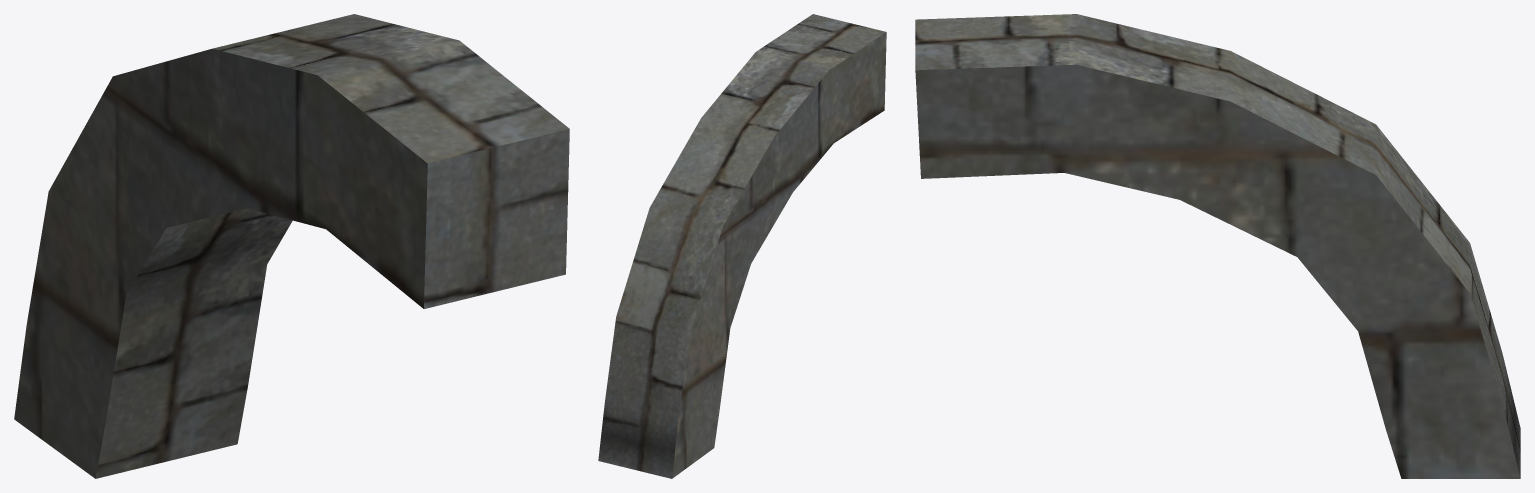
Rendered from Roof Pillar.fbx.
3 views of the same model, side by side, from view 1: azimuth 30°, elevation 25°; view 2: azimuth 150°, elevation 25°; view 3: azimuth 270°, elevation 25° (orthographic). The views are drawn at different scales.
Visible parts, largest first — view 1: Roof Pillar; view 2: Roof Pillar; view 3: Roof Pillar.
Boxes of the visible parts, x1,y1,x2,y2 form: Roof Pillar: [14, 14, 569, 478]; Roof Pillar: [598, 14, 886, 478]; Roof Pillar: [915, 14, 1520, 478].
Size of the model in its own units: 239 by 910 by 1204.
1 material, 1 textured.
